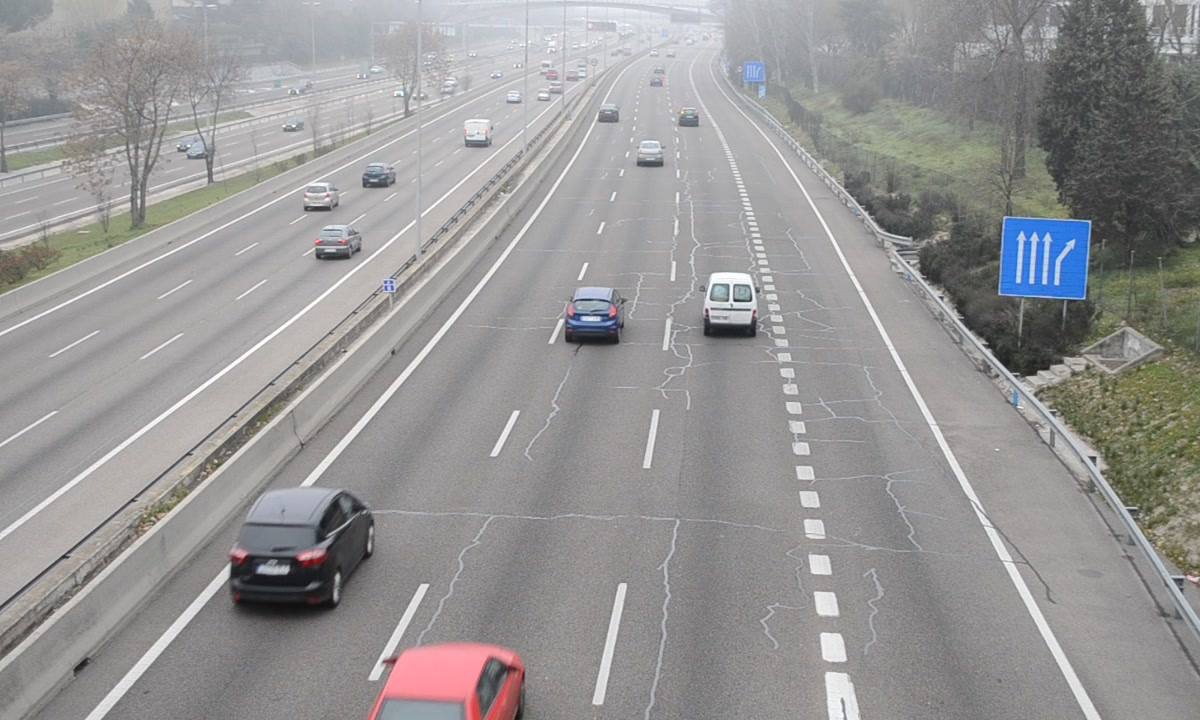car: (229, 488, 373, 606), (565, 288, 624, 341), (635, 141, 665, 168), (598, 101, 621, 124), (677, 106, 700, 128)
van: (704, 272, 758, 334)
